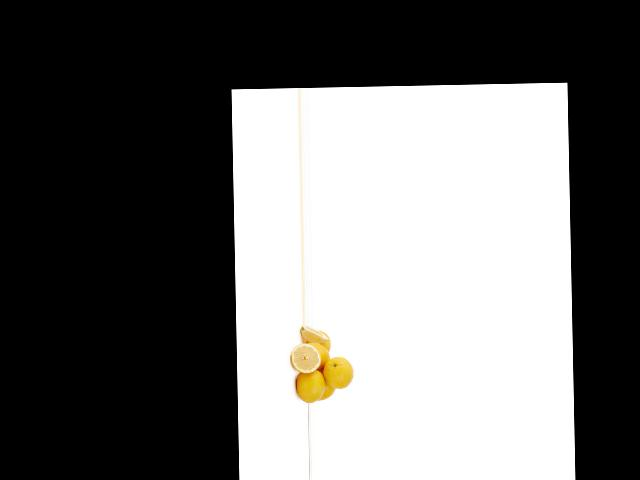lemon: (293, 367, 330, 402)
